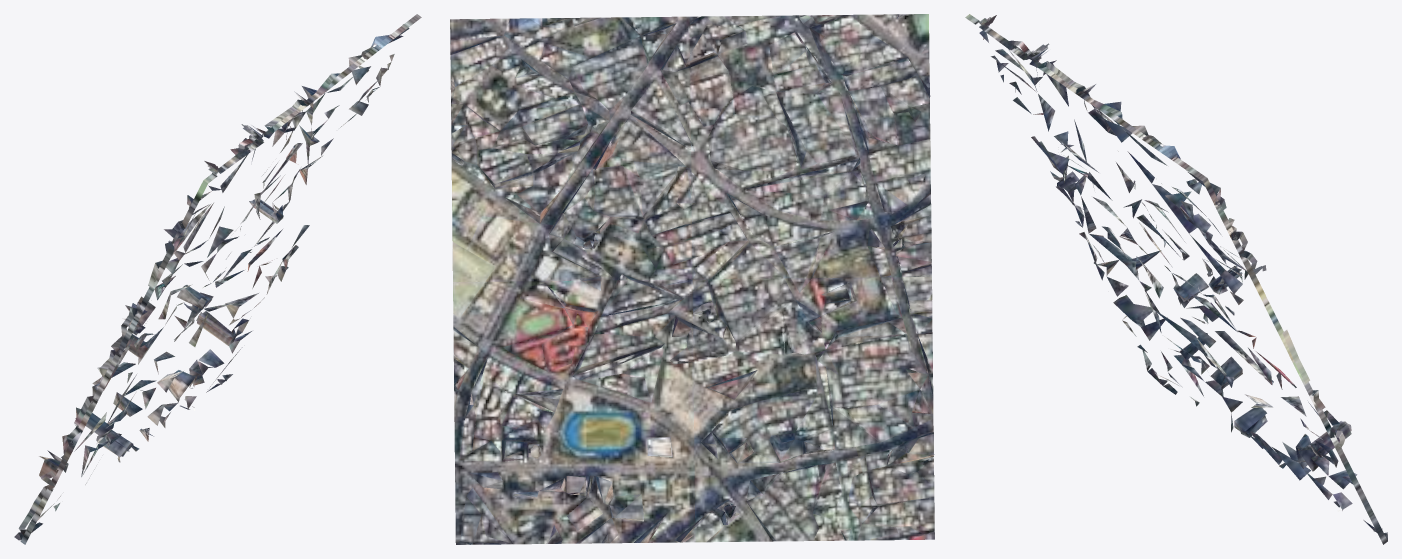
3 views of the same model, side by side, from view 1: azimuth 30°, elevation 25°; view 2: azimuth 150°, elevation 25°; view 3: azimuth 270°, elevation 25° (orthographic). The views are drawn at different scales.
Bounding box in the file's own units: 1232 × 1132 × 1031.
2 materials, 2 textured.
